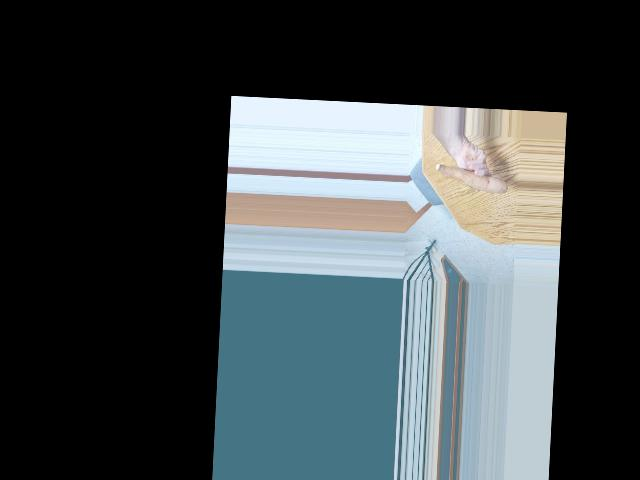sweet_potato: (433, 160, 506, 196)
